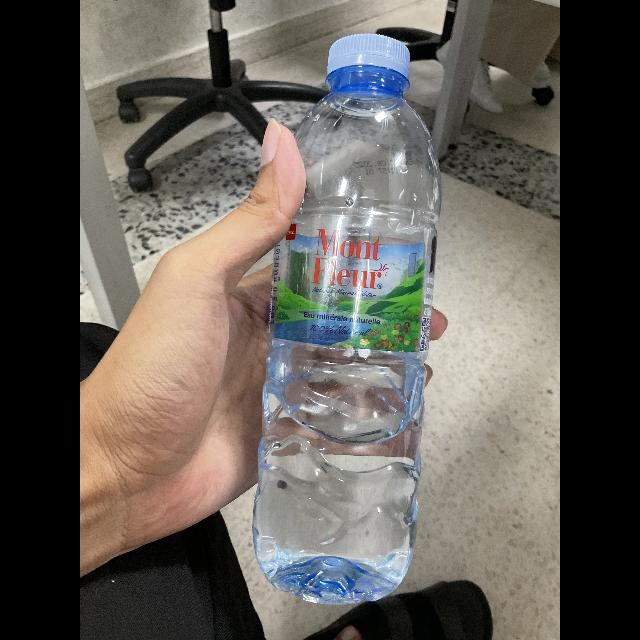plastic_bottle: (261, 22, 437, 612)
